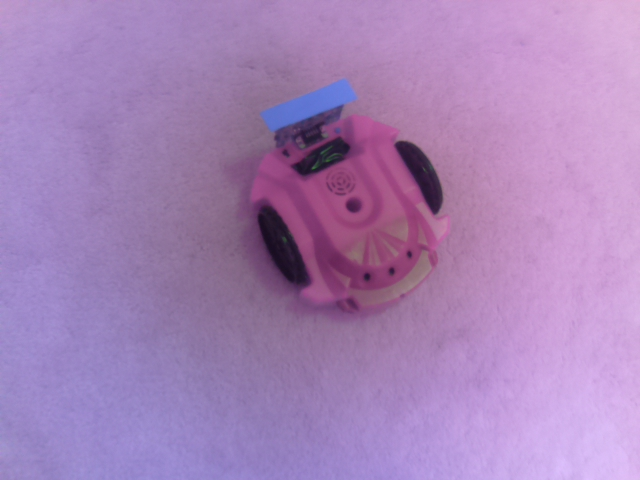board: (249, 77, 366, 135)
chassis: (245, 67, 453, 317)
